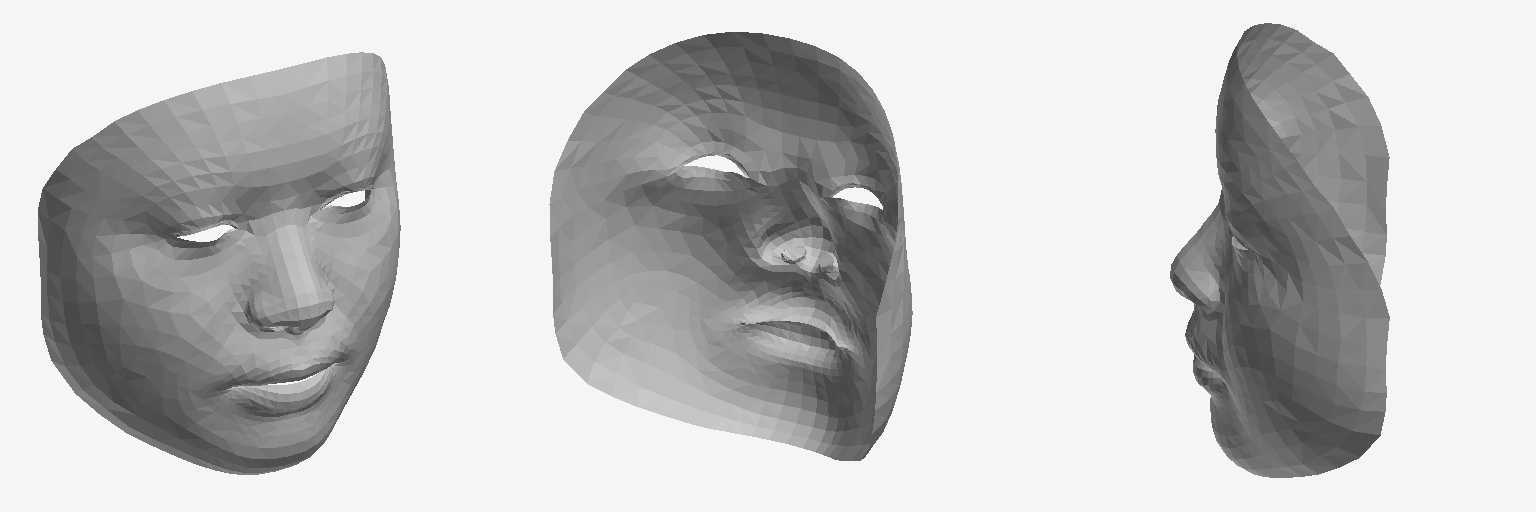
Rendered from eyeLookOut_L.obj.
The picture shows the model from 3 angles: view 1: azimuth 30°, elevation 25°; view 2: azimuth 150°, elevation 25°; view 3: azimuth 270°, elevation 25°; orthographic projection.
Visible parts, largest first — view 1: default; view 2: default; view 3: default.
Part boxes in pixels (x1,y1,x2,y2): default: (38, 52, 400, 474); default: (549, 32, 912, 460); default: (1170, 23, 1389, 477).
Size of the model in its own units: 0.1624 by 0.1851 by 0.0913.